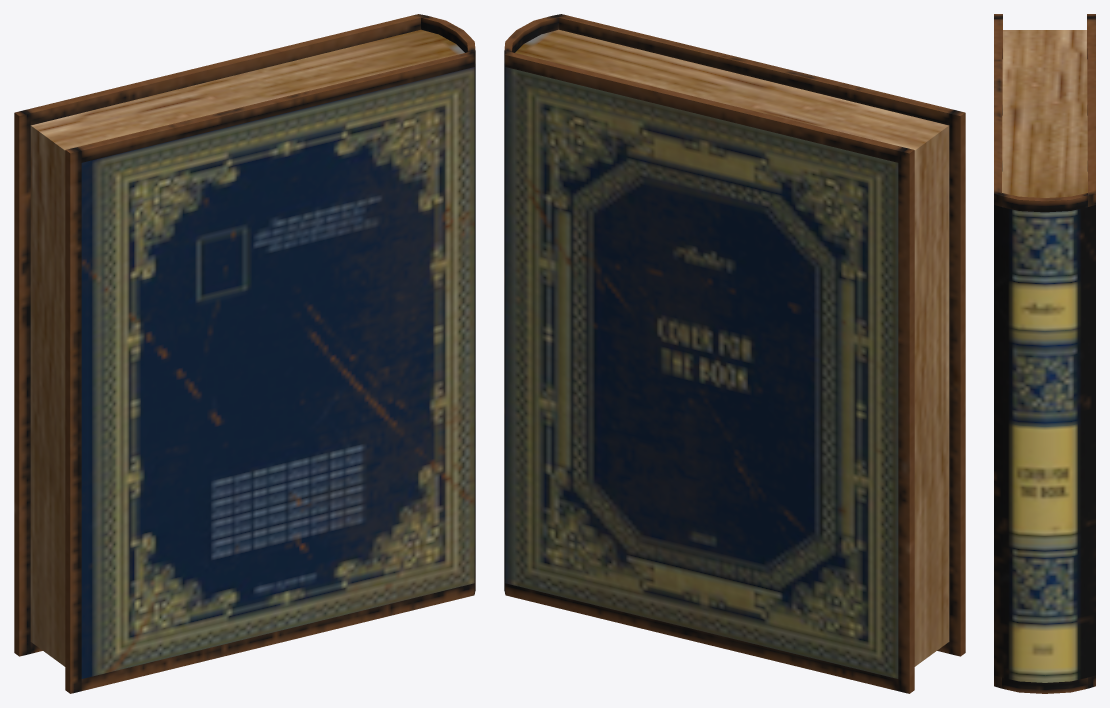
The model's file is Prop_Book_x6.fbx.
The picture shows the model from 3 angles, left to right: view 1: azimuth 30°, elevation 25°; view 2: azimuth 150°, elevation 25°; view 3: azimuth 270°, elevation 25°; orthographic projection. The views are drawn at different scales.
Visible parts, largest first — view 1: Prop_Book_x6; view 2: Prop_Book_x6; view 3: Prop_Book_x6.
Part boxes in pixels (x1,y1,x2,y2): Prop_Book_x6: (14,14,475,693); Prop_Book_x6: (504,14,965,693); Prop_Book_x6: (994,14,1095,693).
Bounding box in the file's own units: 11.46 × 14.04 × 2.64.
